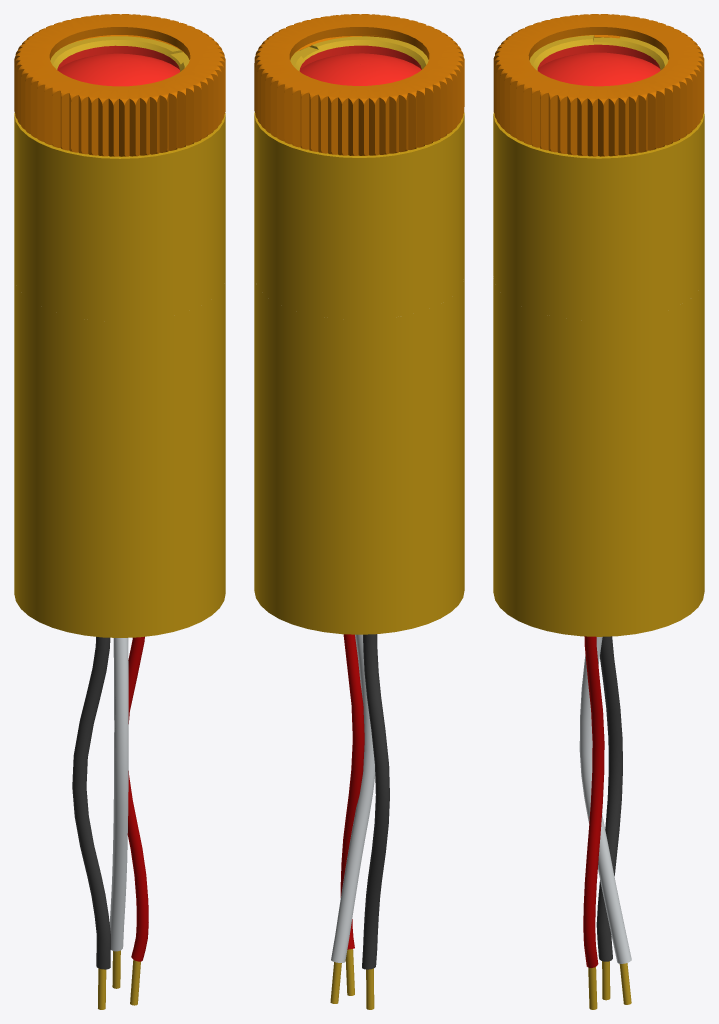
The model's file is laser.fbx.
3 views of the same model, side by side, from view 1: azimuth 30°, elevation 25°; view 2: azimuth 150°, elevation 25°; view 3: azimuth 270°, elevation 25° (orthographic).
Parts seen in each view (by area): view 1: LD module body, LD module diode mount back nut, Lens Focusing Ring, BézierCurve, BézierCurve.001, G-2 colimating lens, BézierCurve.002, SOLID.001, SOLID.003; view 2: LD module body, LD module diode mount back nut, Lens Focusing Ring, BézierCurve, BézierCurve.001, G-2 colimating lens, BézierCurve.002, SOLID.001, SOLID.003; view 3: LD module body, LD module diode mount back nut, Lens Focusing Ring, BézierCurve.002, BézierCurve, G-2 colimating lens, BézierCurve.001, SOLID.001, SOLID.003.
Boxes of the visible parts, box(x1,y1,x2,y2) form: LD module body: box(14, 278, 225, 637); LD module diode mount back nut: box(14, 113, 225, 321); Lens Focusing Ring: box(14, 14, 225, 156); BézierCurve: box(72, 637, 110, 969); BézierCurve.001: box(109, 638, 128, 951); G-2 colimating lens: box(57, 45, 180, 86); BézierCurve.002: box(127, 636, 148, 961); SOLID.001: box(50, 36, 189, 71); SOLID.003: box(112, 950, 140, 1005); LD module body: box(254, 277, 464, 634); LD module diode mount back nut: box(254, 112, 464, 319); Lens Focusing Ring: box(254, 14, 464, 155); BézierCurve: box(362, 634, 389, 969); BézierCurve.001: box(331, 634, 375, 962); G-2 colimating lens: box(299, 45, 421, 85); BézierCurve.002: box(340, 634, 364, 949); SOLID.001: box(290, 36, 428, 71); SOLID.003: box(330, 949, 354, 1003); LD module body: box(493, 277, 704, 636); LD module diode mount back nut: box(493, 112, 704, 320); Lens Focusing Ring: box(493, 14, 704, 156); BézierCurve.002: box(583, 636, 604, 967); BézierCurve: box(596, 636, 622, 961); G-2 colimating lens: box(537, 44, 660, 86); BézierCurve.001: box(579, 637, 631, 963); SOLID.001: box(529, 35, 668, 70); SOLID.003: box(588, 963, 631, 1009).
Size of the model in its own units: 6.18 by 30.65 by 6.18.
